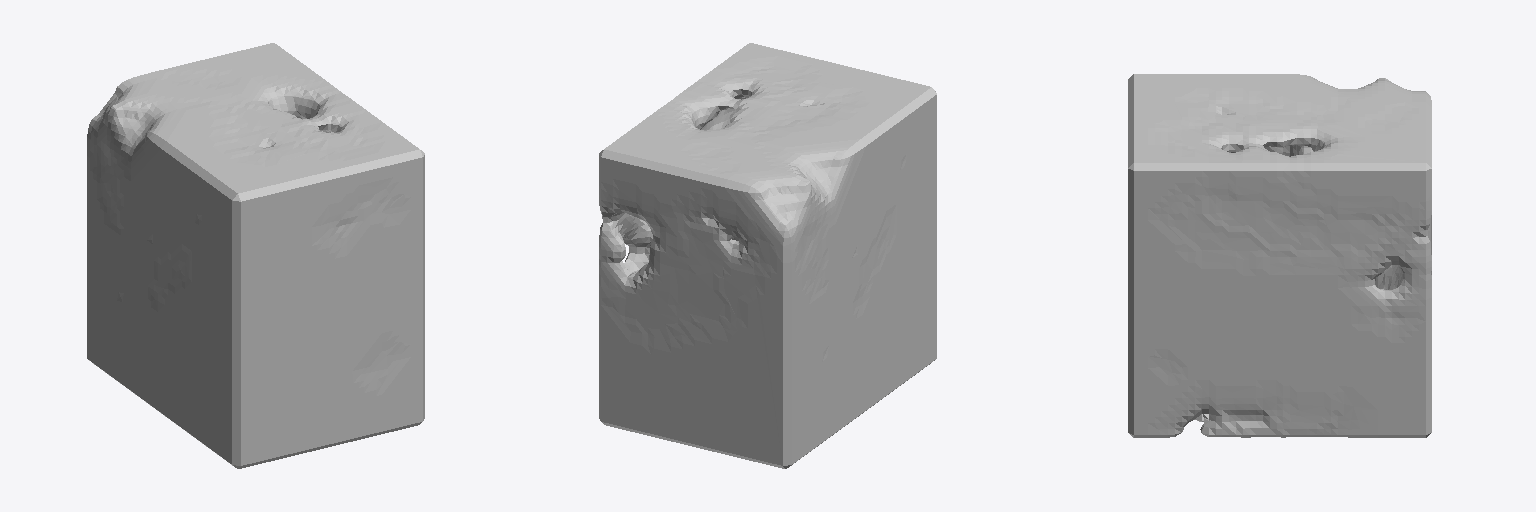
3 views of the same model, side by side, from view 1: azimuth 30°, elevation 25°; view 2: azimuth 150°, elevation 25°; view 3: azimuth 270°, elevation 25° (orthographic).
Parts seen in each view (by area): view 1: Liquid_Domain; view 2: Liquid_Domain; view 3: Liquid_Domain.
Boxes of the visible parts, <box> form: Liquid_Domain: <box>87,43,424,468</box>; Liquid_Domain: <box>599,43,936,468</box>; Liquid_Domain: <box>1128,74,1431,437</box>.
Size of the model in its own units: 79.09 by 108 by 108.